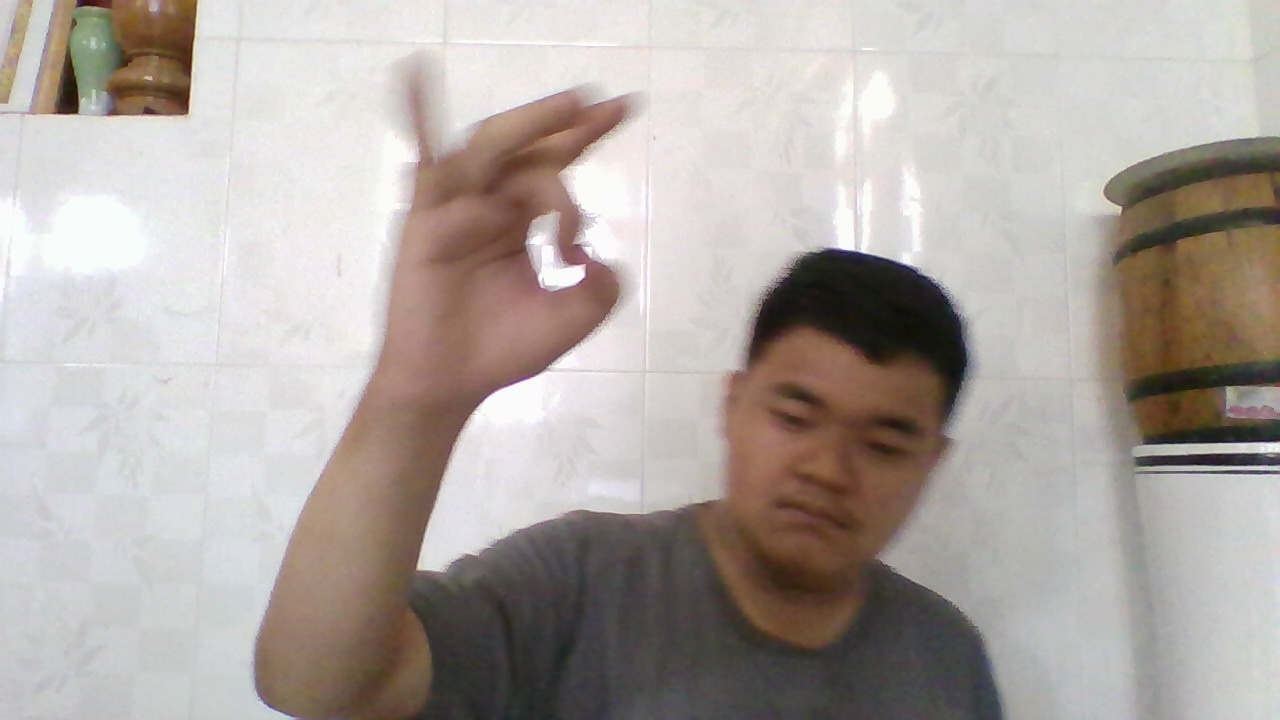H: (403, 56, 638, 402)
